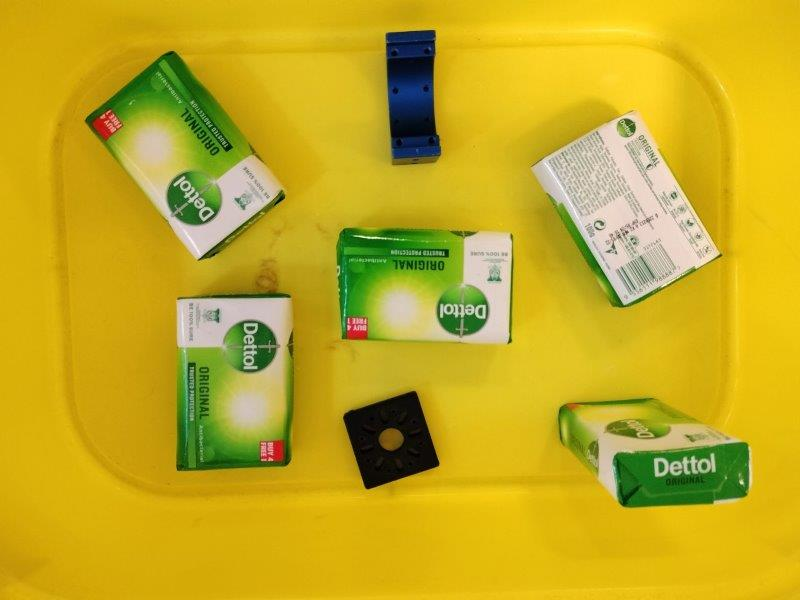Dettol: (85, 52, 285, 261), (533, 109, 720, 308), (558, 398, 751, 509), (336, 228, 515, 344), (174, 295, 293, 469)
